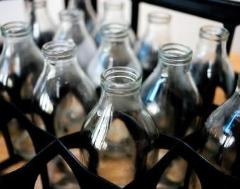glass: (2, 2, 240, 188)
